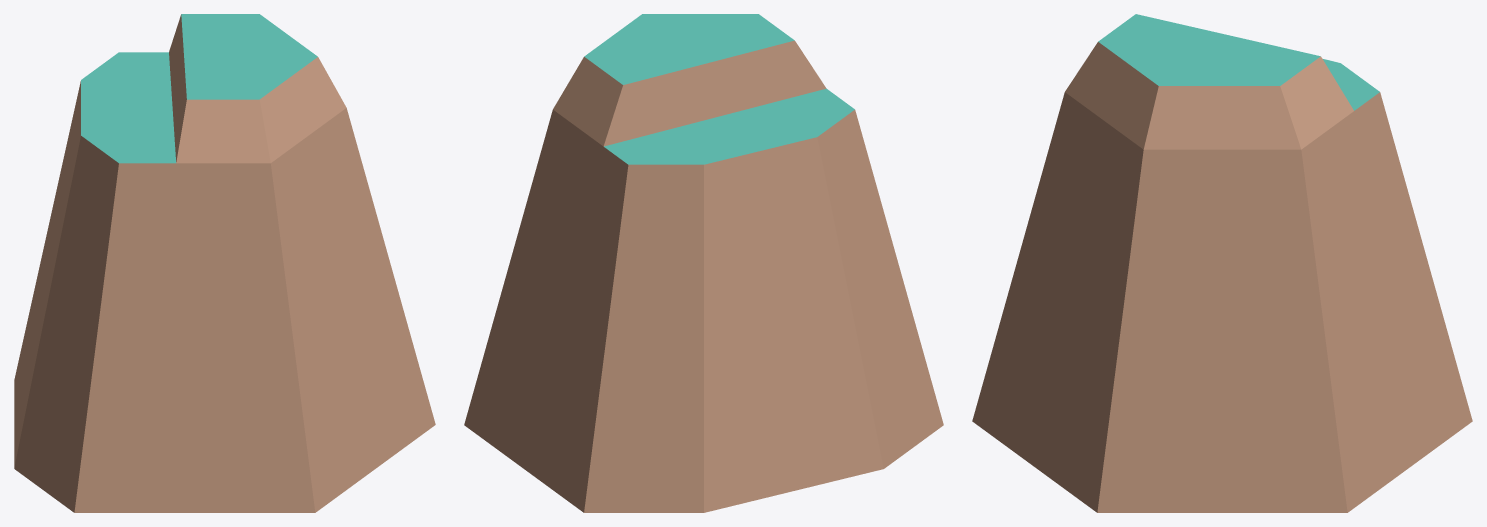
File: rock_tallE.glb
3 renders of one model, left to right at view 1: azimuth 30°, elevation 25°; view 2: azimuth 150°, elevation 25°; view 3: azimuth 270°, elevation 25°, orthographic. The views are drawn at different scales.
Parts seen in each view (by area): view 1: rock_tallE; view 2: rock_tallE; view 3: rock_tallE.
Part boxes in pixels (x1,y1,x2,y2): rock_tallE: (14, 14, 435, 512); rock_tallE: (464, 14, 943, 512); rock_tallE: (972, 14, 1472, 512).
Bounding box in the file's own units: 0.4562 × 0.4438 × 0.5268.
